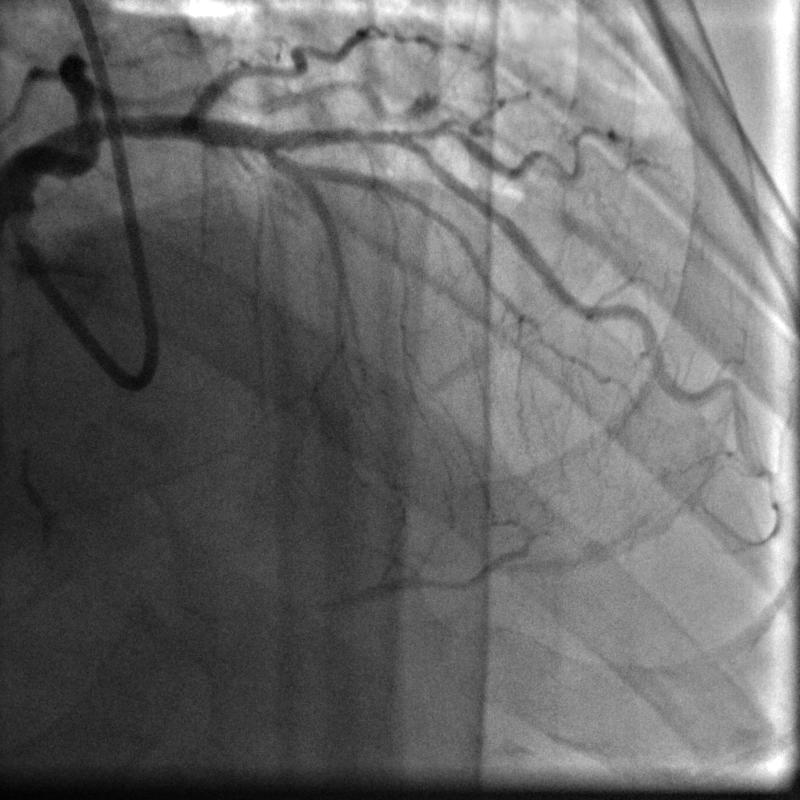Stenosis: (340, 123, 419, 154)
